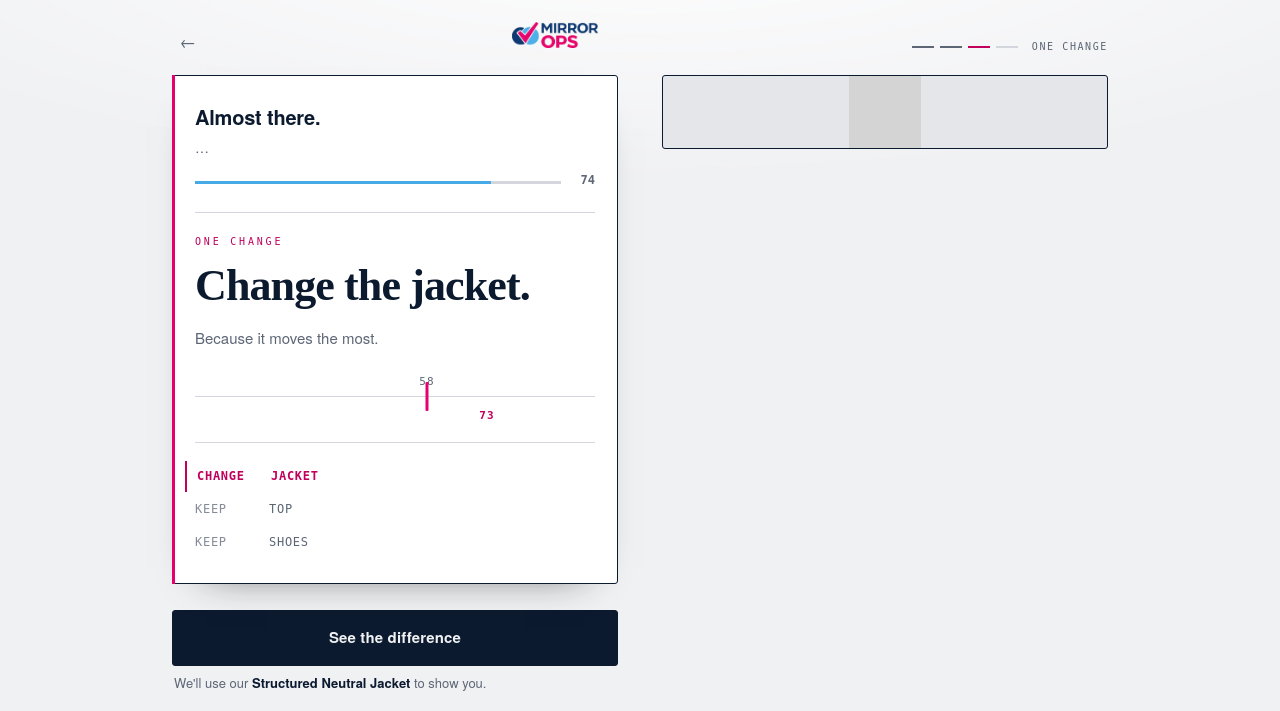
Test: écran de décision › reste accessible quand le catalogue échoue
The width and height of the screenshot is (1280, 711).
Expected: the heading "Change the jacket." is shown, top-left (195, 261), bottom-right (530, 310)
Click the button "See the difference".
click(395, 638)  # box top-left (172, 610), bottom-right (618, 666)
(page scrolled)
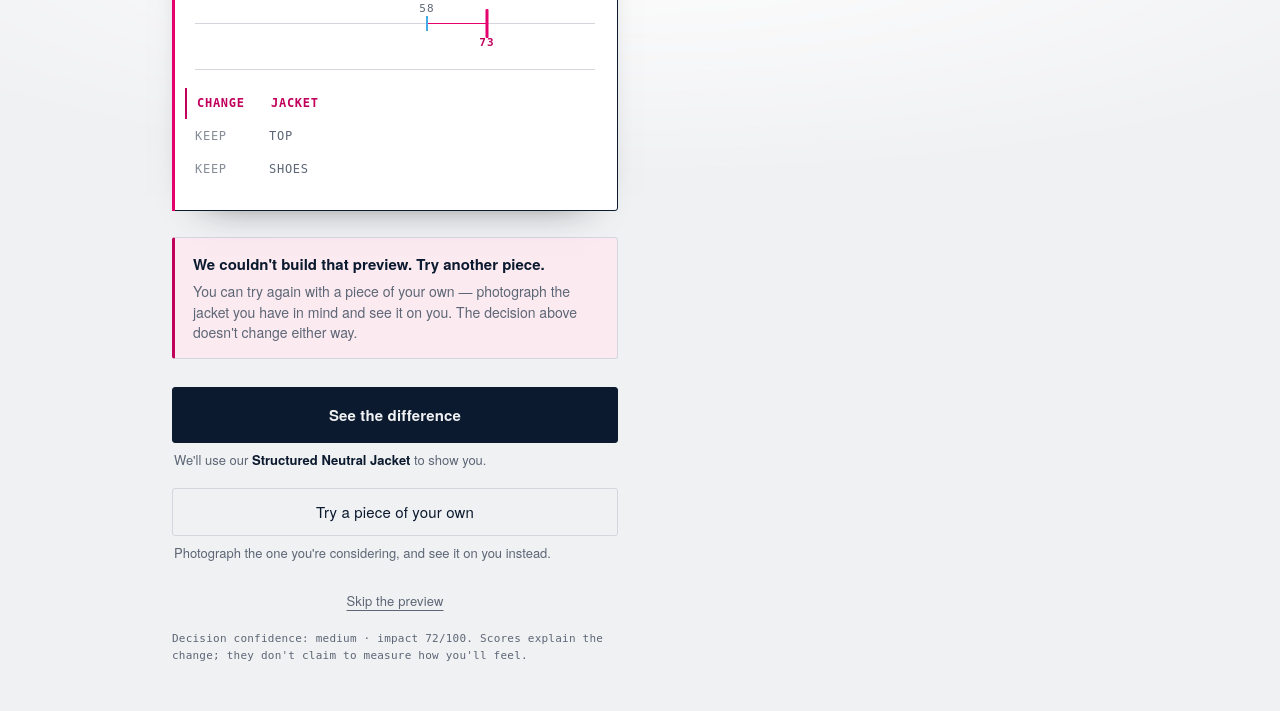
Expected: the button "Try a piece of your own" is shown, top-left (172, 488), bottom-right (618, 536)
Result: the text "We couldn't build that preview. Try another piece." is shown at top-left (193, 254), bottom-right (599, 276)
